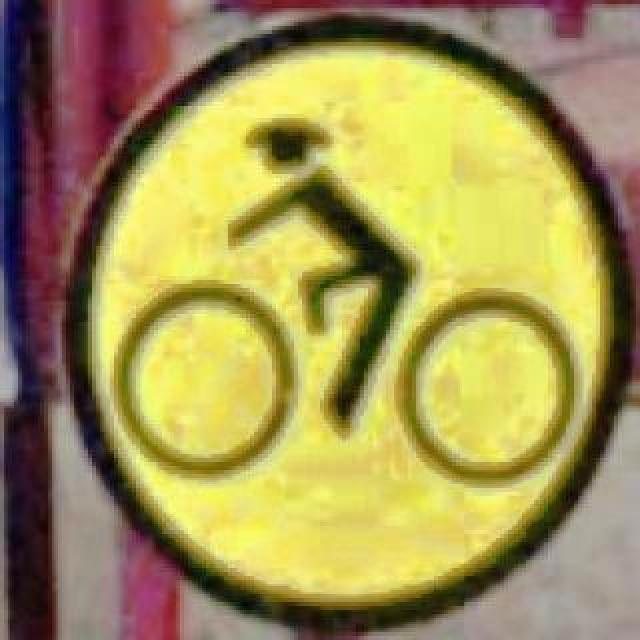bike lane: (62, 4, 618, 628)
